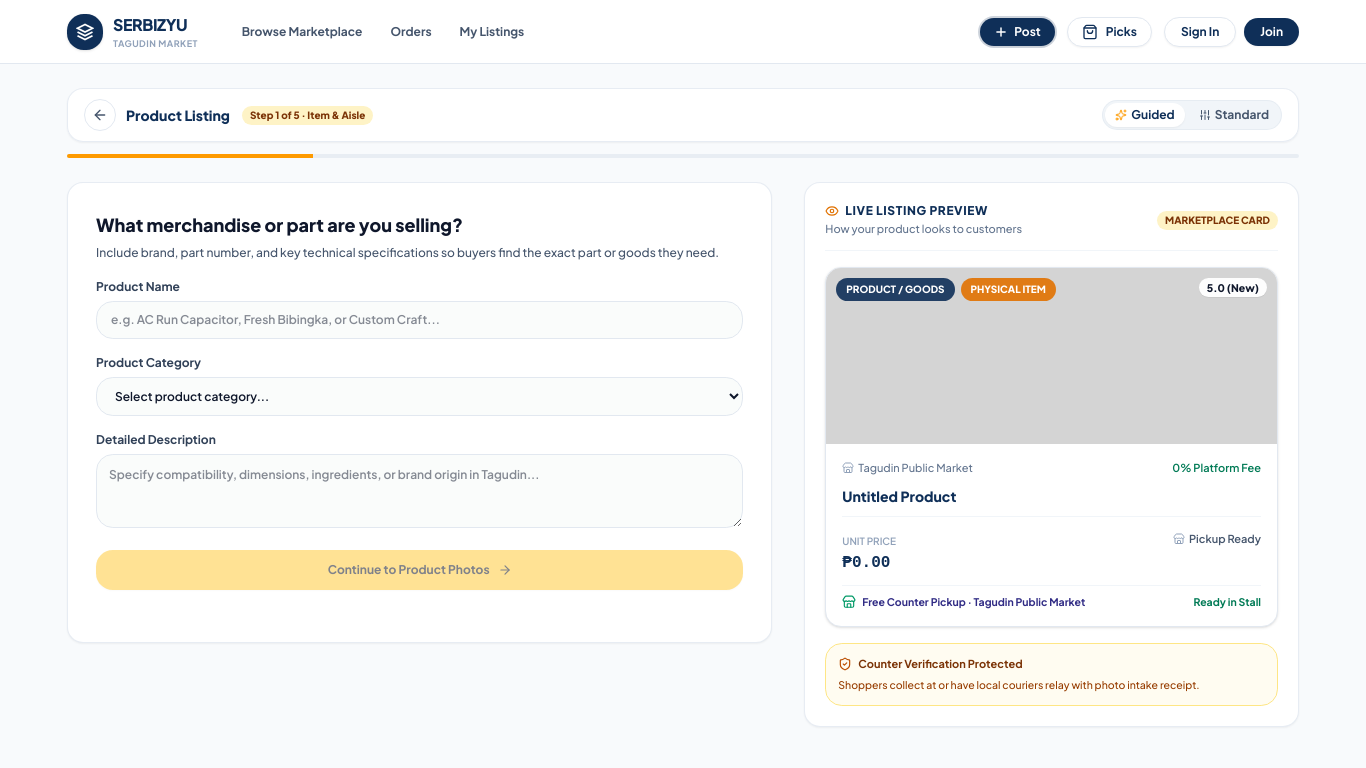
Scenario: CreateProduct Component — Granular Guided & Standard Modes › advances from Step 1 to Step 2 when title is provided
Expected: the button "Continue to Product Photos" is disabled, [96,550,743,590]
Note: Enter product name
Type "AC Run Capacitor 35uF 450V" into the field with placeholder "e.g. AC Run Capacitor, Fresh Bibingka, or Custom Craft..." at (420, 320), box [96,300,743,338]
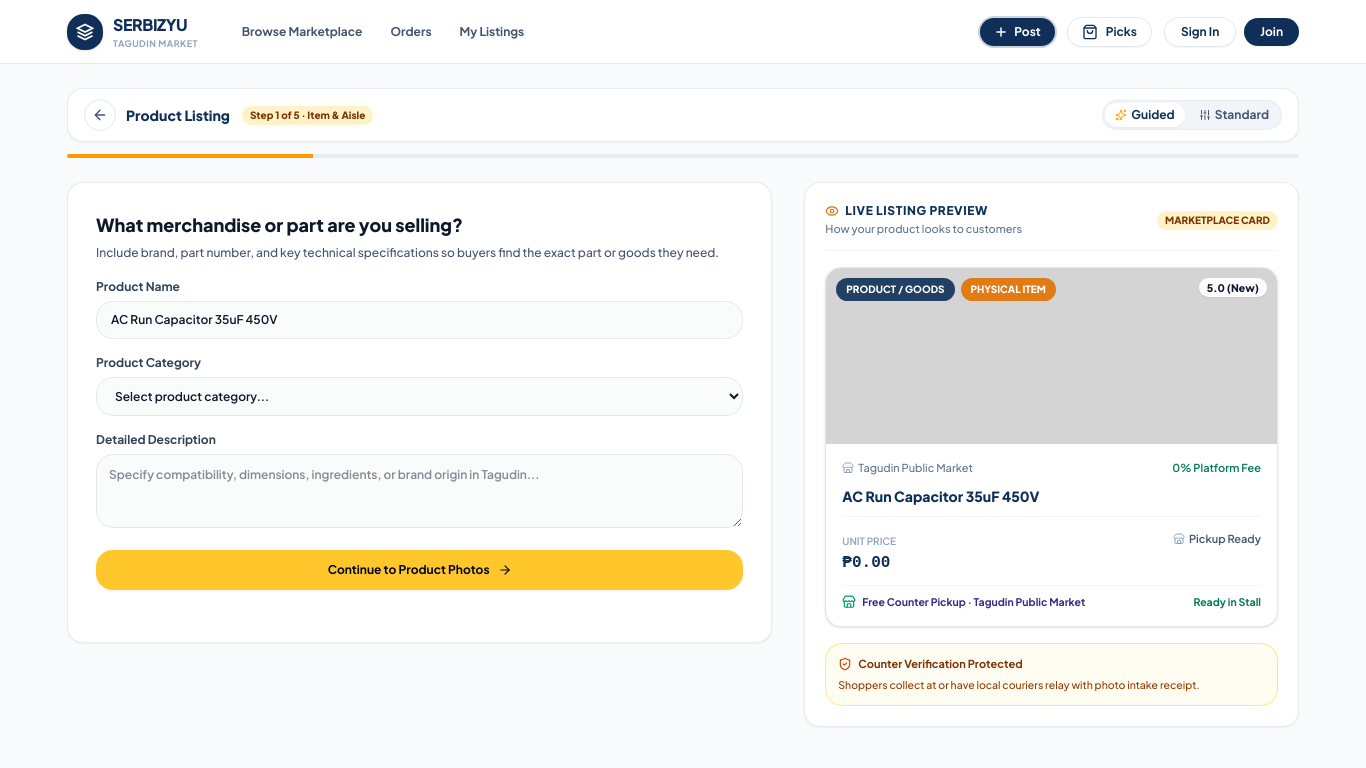
Note: Click continue
Click the button "Continue to Product Photos" at (420, 570), box [96,550,743,590]
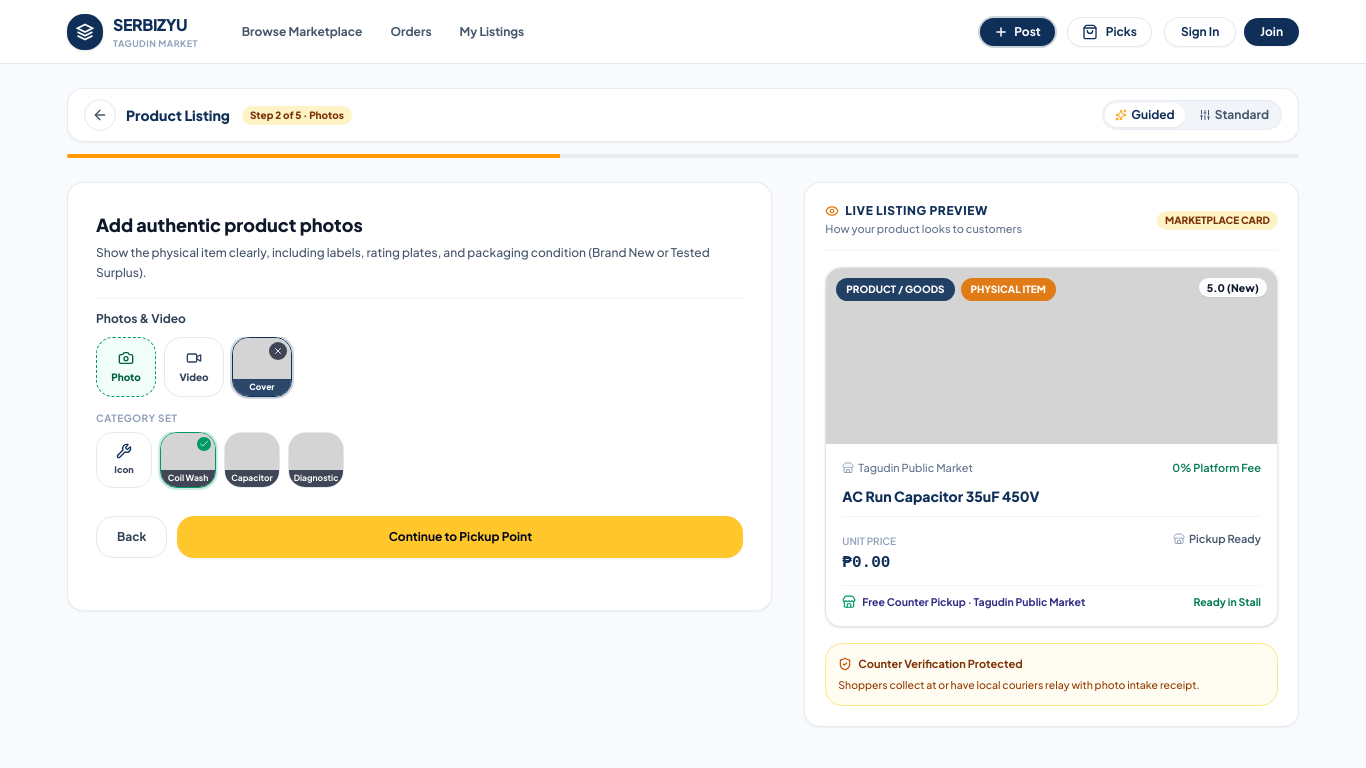
Expected: the text "Step 2 of 5 · Photos" is shown, [242,106,352,124]
Expected: the heading "Add authentic product photos" is shown, [96,213,363,236]
Expected: the button "Continue to Pickup Point" is shown, [178,516,743,558]
